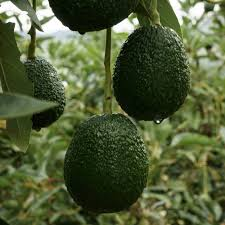unfit_avocado: (66, 112, 152, 212), (112, 23, 191, 125)
